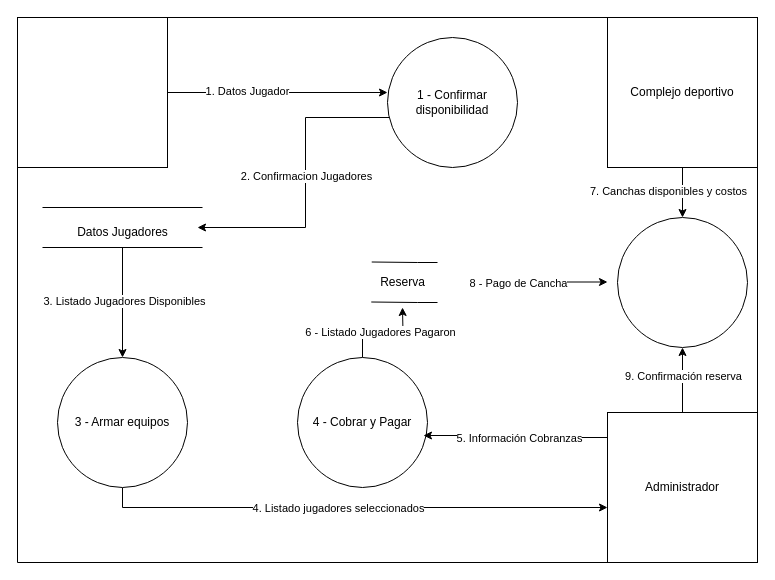
Image size: 775x580. Some labels were removed from this diagram. The shapes that lost their labels are listed below. From the top down, each one's centre as x and y in pixels, then its label:
At point 92,92: "Jugadores".
At point 682,282: "2 - Coordinar reserva de cancha".
